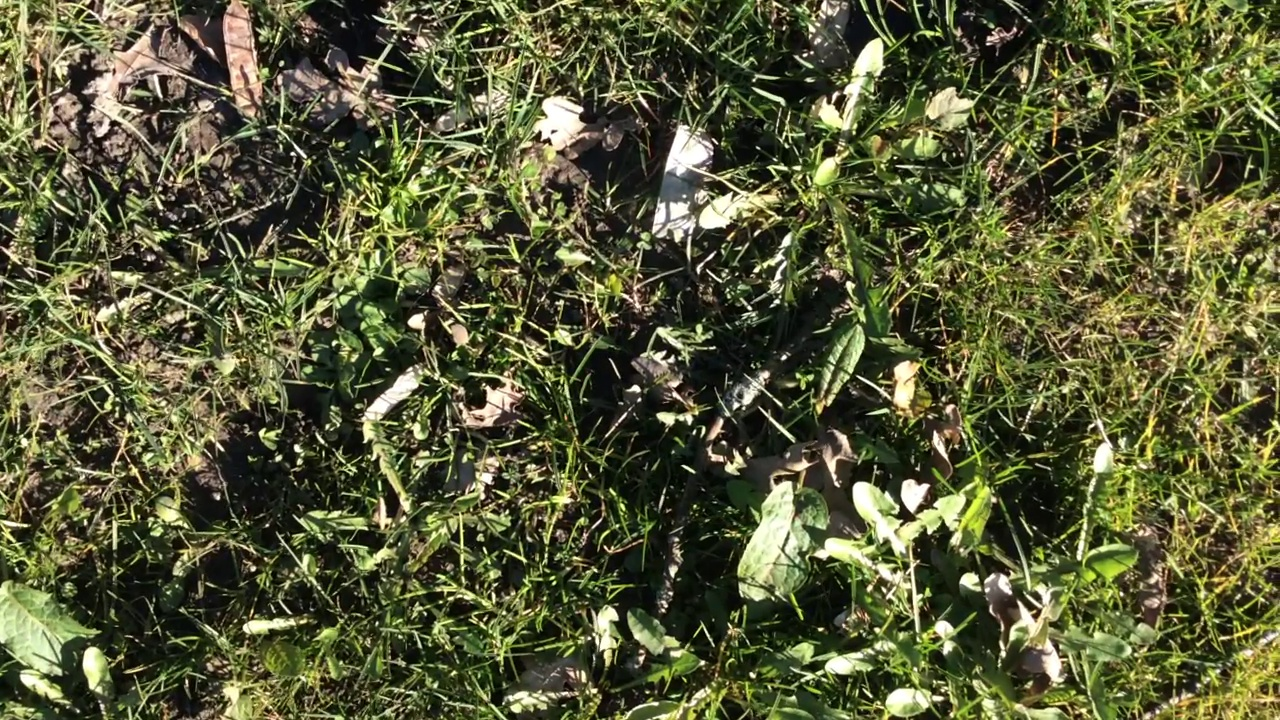rumex: (739, 480, 831, 611), (815, 327, 866, 410)
